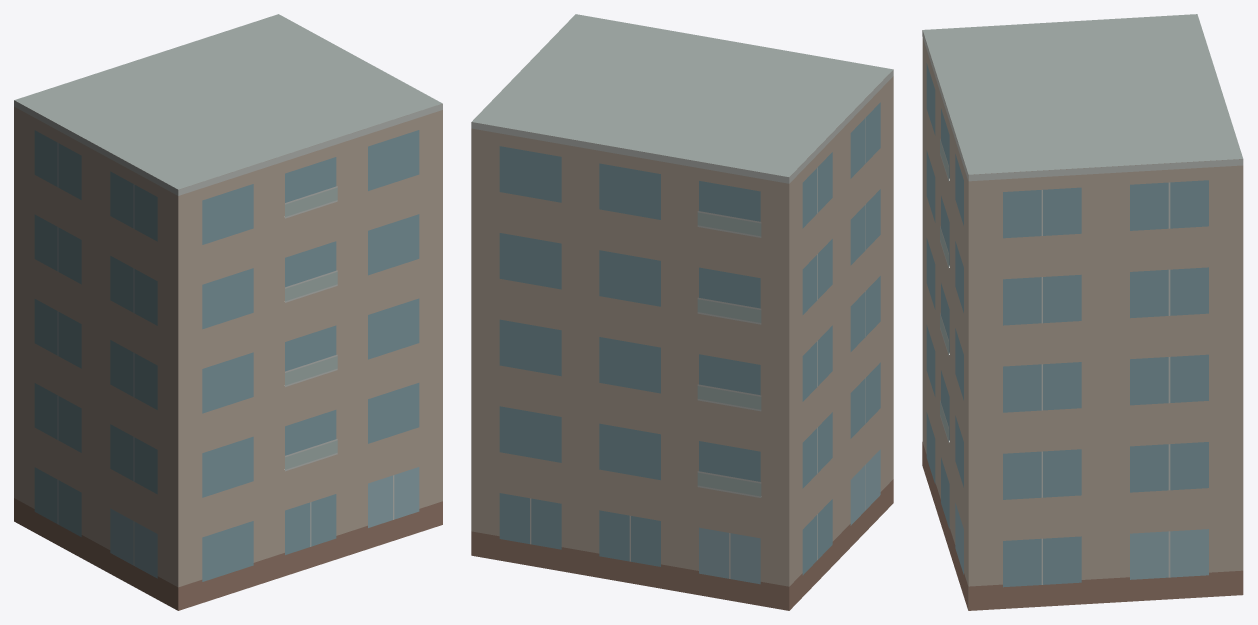
The model's file is survey-upis-32984755.glb.
3 views of the same model, side by side, from view 1: azimuth 30°, elevation 25°; view 2: azimuth 150°, elevation 25°; view 3: azimuth 270°, elevation 25° (orthographic). The views are drawn at different scales.
Parts seen in each view (by area): view 1: survey-upis-32984755.tmp; view 2: survey-upis-32984755.tmp; view 3: survey-upis-32984755.tmp.
Boxes of the visible parts, box(x1,y1,x2,y2) form: survey-upis-32984755.tmp: box(14, 14, 442, 610); survey-upis-32984755.tmp: box(471, 14, 893, 610); survey-upis-32984755.tmp: box(922, 14, 1243, 610).
Bounding box in the file's own units: 12.77 × 16.15 × 10.77.
